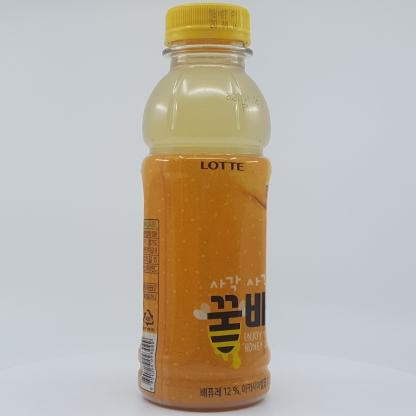--------380ML: (137, 2, 271, 412)
